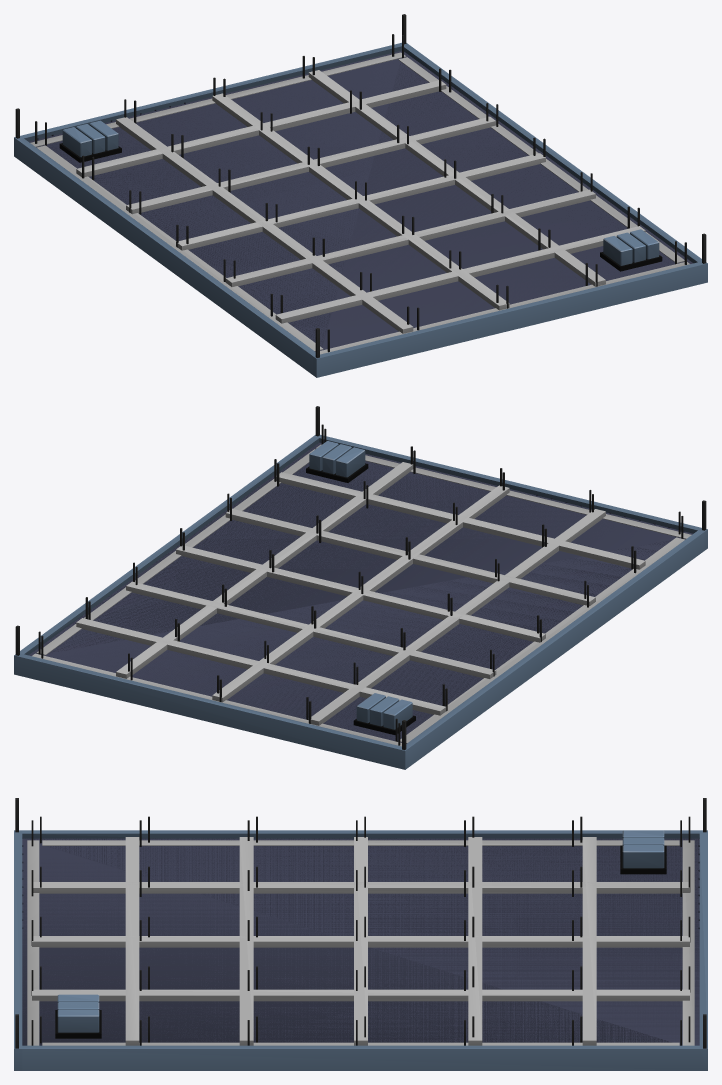
File: veyran_refinery_foundation.glb
3 views of the same model, one above another, from view 1: azimuth 30°, elevation 25°; view 2: azimuth 150°, elevation 25°; view 3: azimuth 270°, elevation 25° (orthographic). The views are drawn at different scales.
Visible parts, largest first — view 1: body (×3); view 2: body (×3); view 3: body (×3).
Boxes of the visible parts, x1,y1,x2,y2 form: body (×3): (14, 14, 707, 377); body (×3): (14, 406, 707, 769); body (×3): (14, 798, 707, 1070).
Size of the model in its own units: 11.18 by 1.3 by 14.98.
